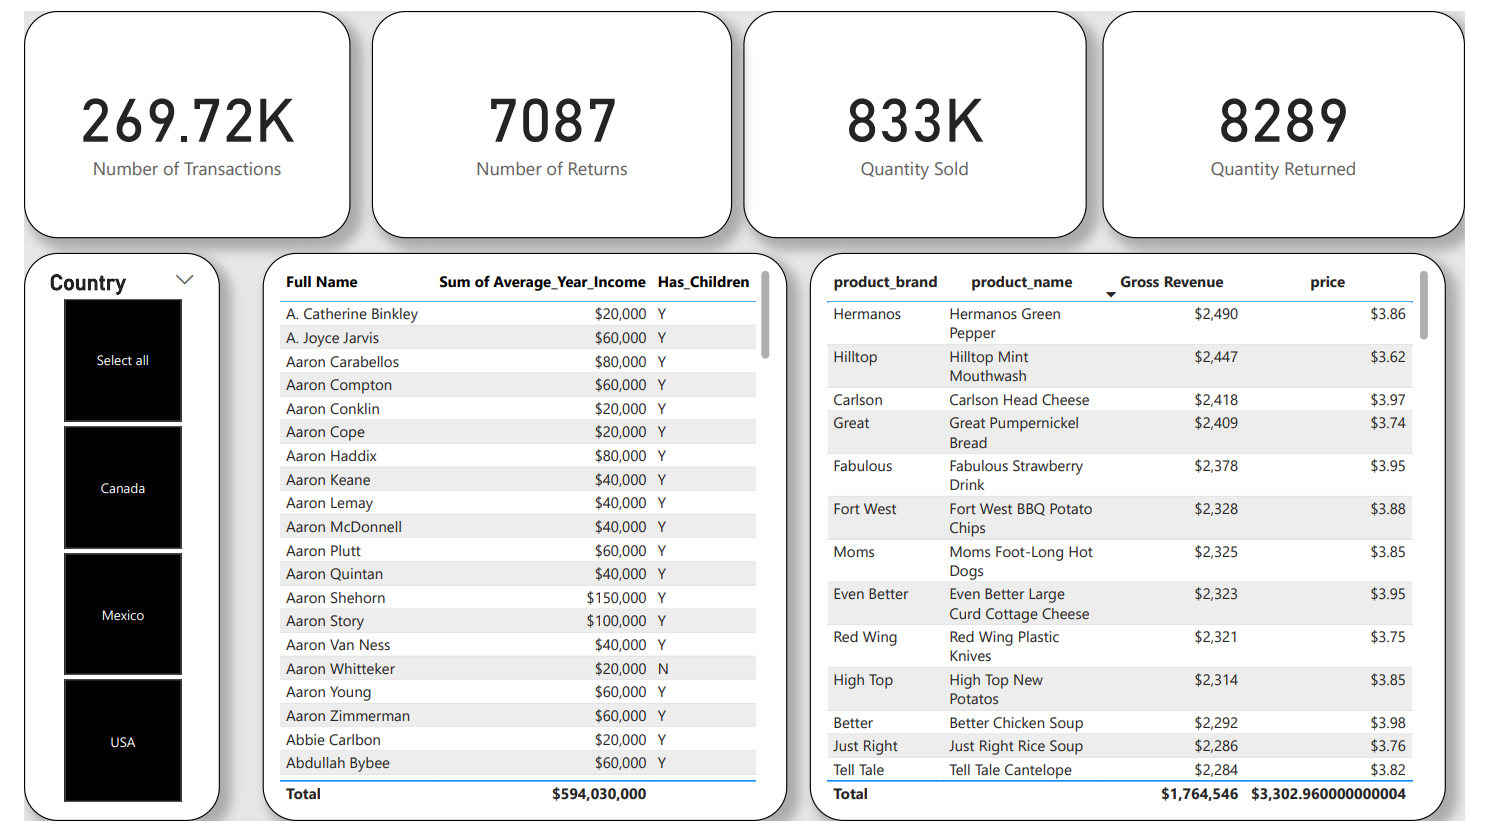

This screenshot's page, from the dashboard's own definition file:
{"tool":"powerbi","page":{"name":"Overview","canvas":[1280,720],"ordinal":1},"visuals":[{"type":"card","fields":{"Values":["Calculations.Quantity Sold"]},"box":[639.4,0,305,201.8],"z":0},{"type":"card","fields":{"Values":["MavenMarket_Returns.product_id"]},"box":[309.4,0,319.7,201.8],"z":1000},{"type":"card","fields":{"Values":["MavenMarket_Transactions.customer_id"]},"box":[0,0,290.2,201.8],"z":2000},{"type":"slicer","fields":{"Values":["MavenMarket_Stores.store_country"]},"box":[0,215.1,173.8,505.3],"z":3000},{"type":"card","fields":{"Values":["MavenMarket_Returns.quantity"]},"box":[957.6,0,322.7,201.8],"z":4000},{"type":"tableEx","fields":{"Values":["MavenMarket_Customers.Full Name","MavenMarket_Customers.Average_Year_Income","MavenMarket_Customers.Has_Children"]},"box":[212.2,215.1,465.6,505.3],"z":5000},{"type":"tableEx","fields":{"Values":["MavenMarket_Products.product_brand","MavenMarket_Products.product_name","Calculations.Gross Revenue","MavenMarket_Products.product_retail_price"]},"box":[698.3,215.1,564.3,505.3],"z":6000}]}

Visuals, with their boxes in screenshot pixels (x1, y1, x2, y2), scaled from the page's 1280x720 canvas onto the 1487x840 screenshot:
card - Calculations.Quantity Sold: [743, 0, 1097, 235]
card - MavenMarket_Returns.product_id: [359, 0, 731, 235]
card - MavenMarket_Transactions.customer_id: [0, 0, 337, 235]
slicer - MavenMarket_Stores.store_country: [0, 251, 202, 839]
card - MavenMarket_Returns.quantity: [1112, 0, 1486, 235]
tableEx - MavenMarket_Customers.Full Name x MavenMarket_Customers.Average_Year_Income: [247, 251, 787, 839]
tableEx - MavenMarket_Products.product_brand x MavenMarket_Products.product_name: [811, 251, 1467, 839]
